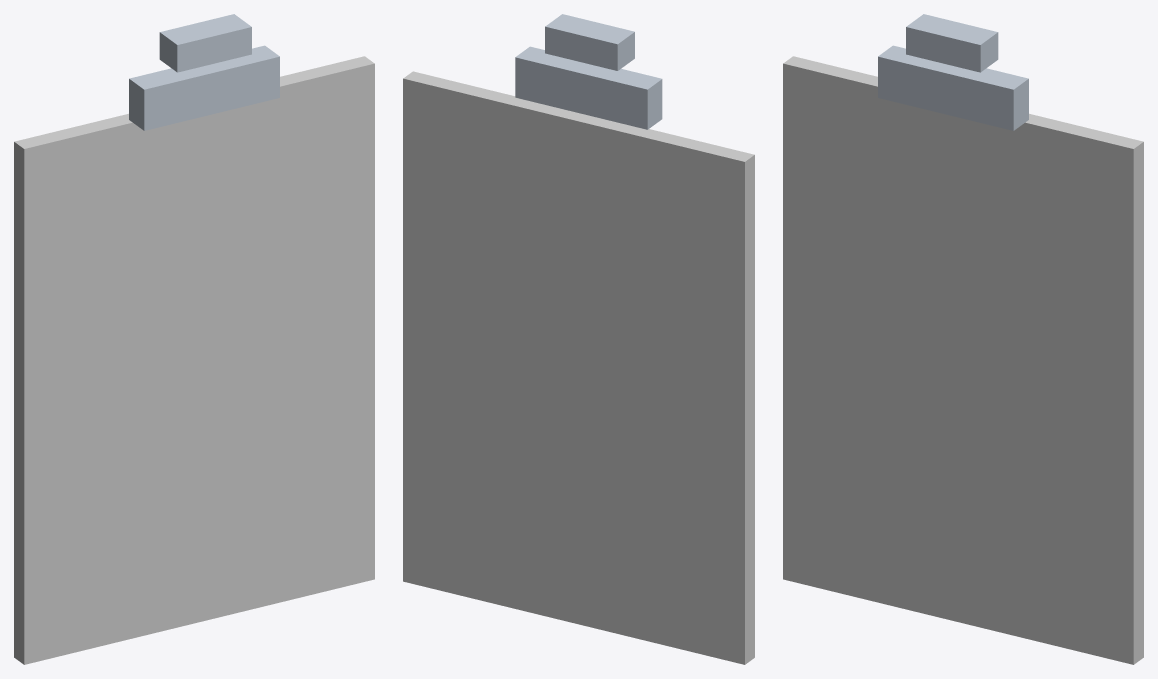
File: card.glb
3 views of the same model, side by side, from view 1: azimuth 30°, elevation 25°; view 2: azimuth 150°, elevation 25°; view 3: azimuth 330°, elevation 25° (orthographic). The views are drawn at different scales.
Parts seen in each view (by area): view 1: cardFace, card, clip, clamp; view 2: card, clip, clamp; view 3: cardFace, card, clip, clamp.
Part boxes in pixels (<box>): cardFace: <box>36,81,364,647</box>; card: <box>14,56,374,664</box>; clip: <box>129,45,279,130</box>; clamp: <box>159,14,251,72</box>; card: <box>403,71,754,664</box>; clip: <box>515,46,662,129</box>; clamp: <box>545,14,634,70</box>; cardFace: <box>793,81,1121,647</box>; card: <box>783,56,1143,664</box>; clip: <box>878,45,1028,130</box>; clamp: <box>906,14,998,72</box>.
Size of the model in its own units: 1.6 by 2.6 by 0.2.
